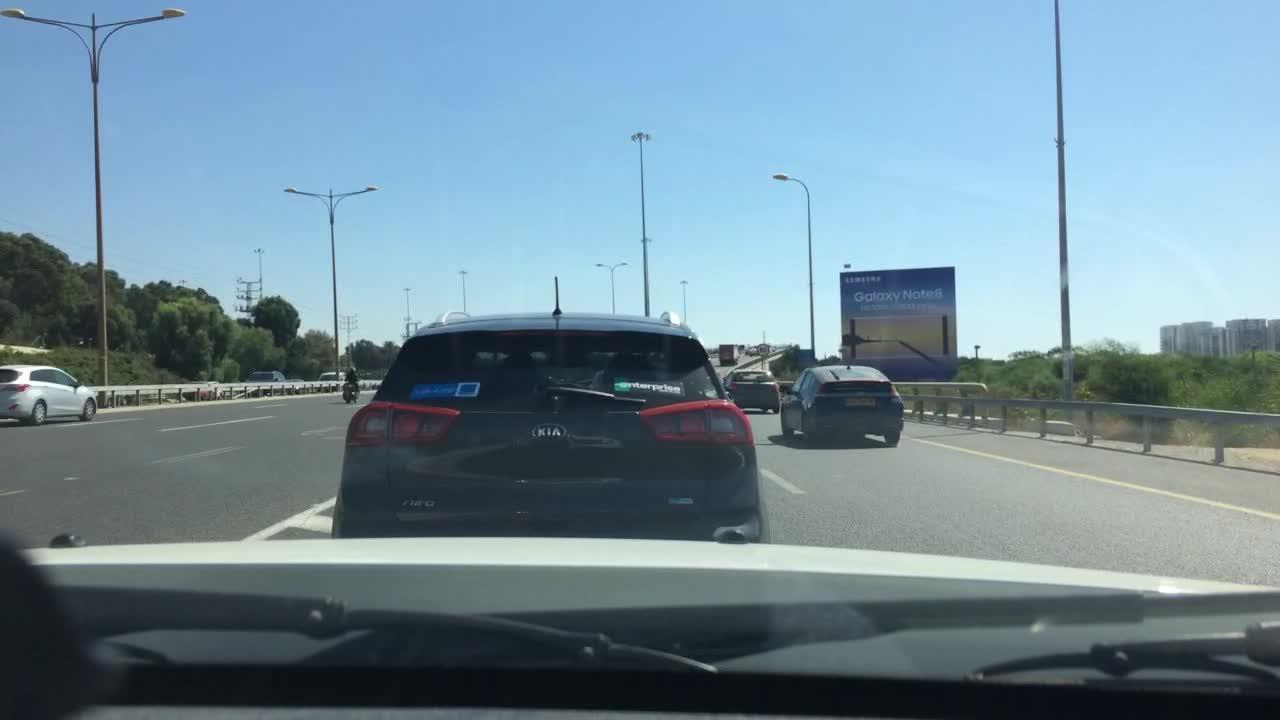kia: (526, 421, 569, 446)
